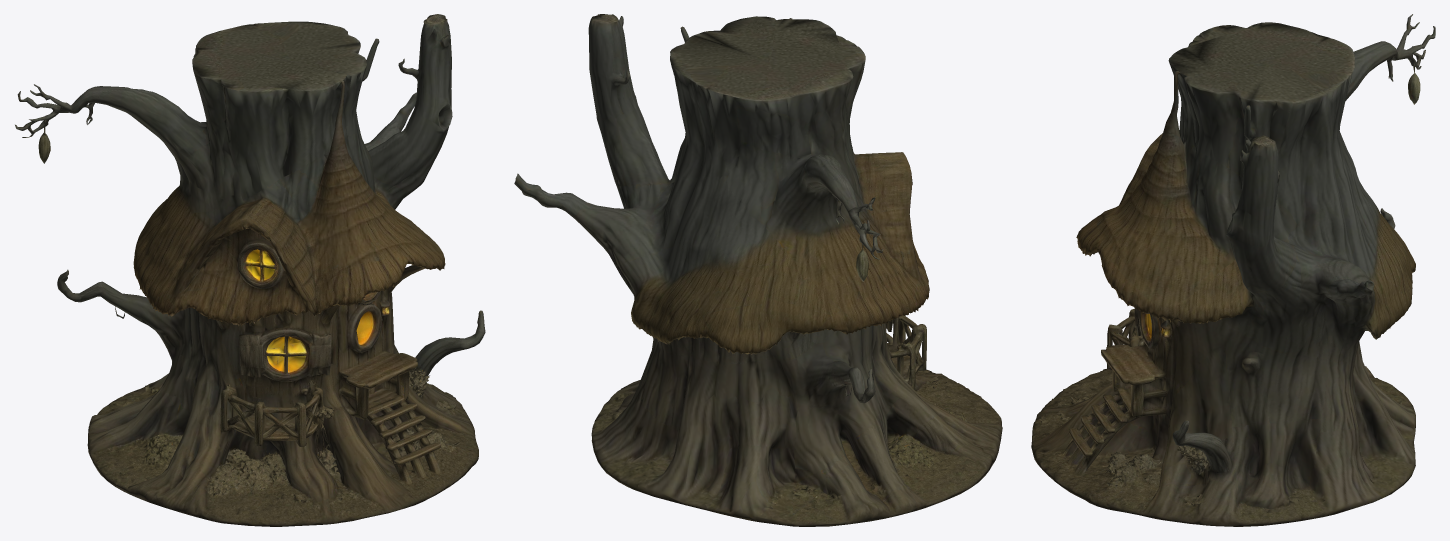
Rendered from tree_house.glb.
The picture shows the model from 3 angles, left to right: view 1: azimuth 30°, elevation 25°; view 2: azimuth 150°, elevation 25°; view 3: azimuth 270°, elevation 25°; orthographic projection. The views are drawn at different scales.
Size of the model in its own units: 1.9 by 1.81 by 1.7.
1 material, 1 textured.
